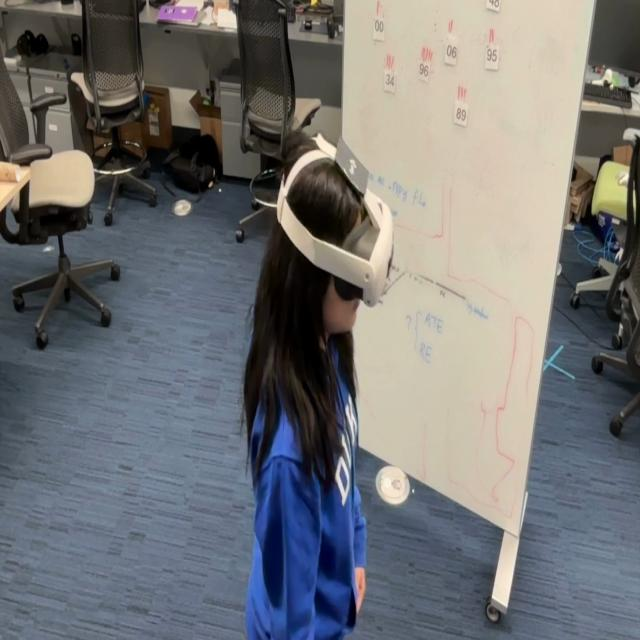Headset: (275, 138, 394, 308)
UnityLogo: (333, 132, 370, 198)
